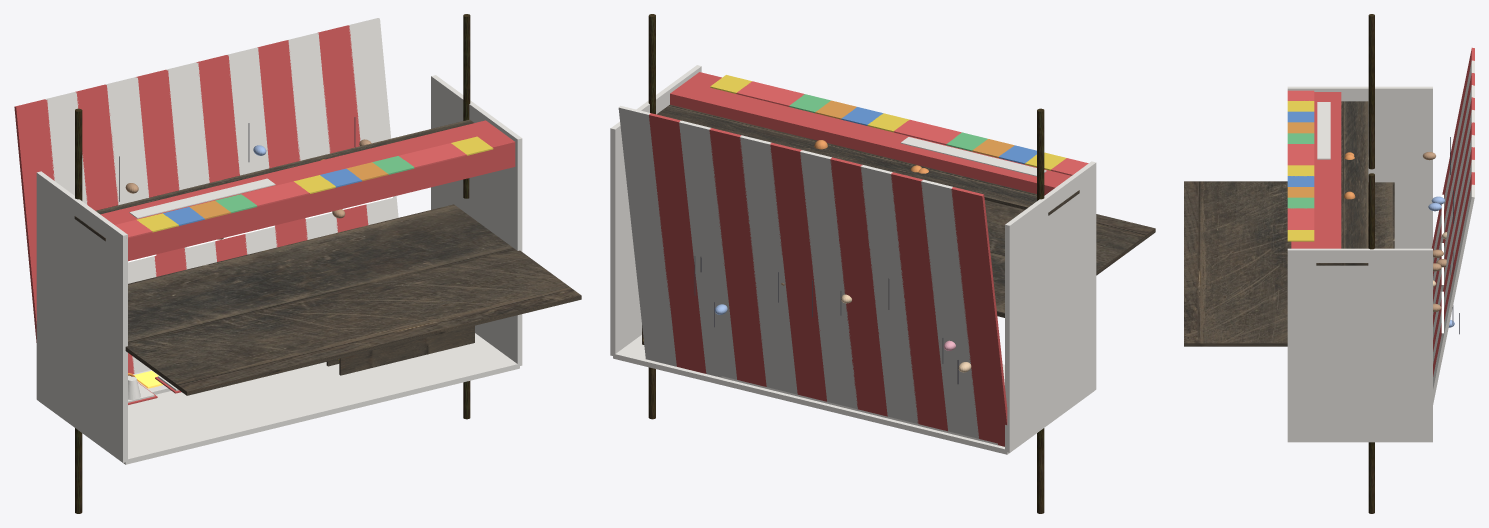
File: booth_v2.glb
3 views of the same model, side by side, from view 1: azimuth 30°, elevation 25°; view 2: azimuth 150°, elevation 25°; view 3: azimuth 270°, elevation 25° (orthographic). The views are drawn at different scales.
Parts seen in each view (by area): view 1: Floor, SideL, BackWall, Counter, SideR, Awning_3, Awning_8, Awning_4, Awning_10, Awning_5, Awning_9, Awning_6 (+11 smaller); view 2: SideL, Counter, Awning_0, Awning_7, Awning_11, Awning_3, Awning_9, Awning_5, Awning_2, Awning_10, Awning_8, Awning_4 (+11 smaller); view 3: SideR, Floor, SideL, CounterTop, Counter, Awning_11, Post_-1_1, WinnersStrip, Awning_0, Awning_10, Awning_8, Awning_7 (+9 smaller).
Boxes of the visible parts, box(x1,y1,x2,y2) form: Floor: box(125, 204, 581, 395); SideL: box(36, 171, 127, 462); BackWall: box(39, 333, 519, 464); Counter: box(100, 120, 515, 261); SideR: box(431, 75, 522, 366); Awning_3: box(105, 77, 156, 373); Awning_8: box(257, 40, 307, 247); Awning_4: box(136, 69, 186, 276); Awning_10: box(318, 25, 368, 232); Awning_5: box(166, 62, 216, 269); Awning_9: box(287, 32, 337, 239); Awning_6: box(196, 55, 247, 261); SideL: box(1005, 161, 1096, 452); Counter: box(670, 72, 1070, 195); Awning_0: box(951, 187, 1007, 446); Awning_7: box(739, 135, 797, 394); Awning_11: box(618, 105, 676, 366); Awning_3: box(860, 165, 918, 423); Awning_9: box(679, 120, 736, 379); Awning_5: box(800, 150, 857, 408); Awning_2: box(891, 172, 947, 431); Awning_10: box(649, 113, 706, 373); Awning_8: box(709, 128, 766, 386); Awning_4: box(830, 157, 887, 416); SideR: box(1287, 248, 1432, 441); Floor: box(1184, 181, 1394, 346); SideL: box(1287, 86, 1432, 248); CounterTop: box(1316, 101, 1368, 265); Counter: box(1291, 92, 1341, 248); Awning_11: box(1433, 184, 1474, 404); Post_-1_1: box(1368, 14, 1374, 169); WinnersStrip: box(1317, 102, 1330, 159); Awning_0: box(1431, 47, 1474, 250); Awning_10: box(1433, 172, 1474, 376); Awning_8: box(1433, 147, 1474, 351); Awning_7: box(1433, 135, 1474, 339).
Bounding box in the file's own units: 10.15 × 9.74 × 7.59.
Materials: 83 (2 with a texture image).
